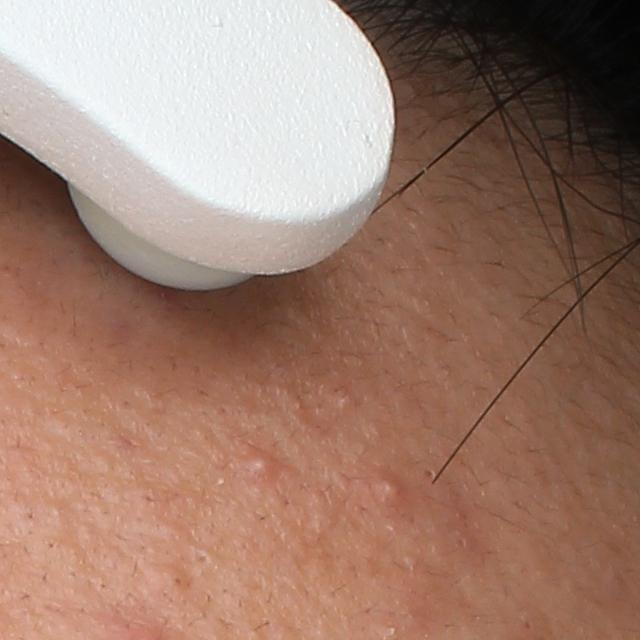comedo: (192, 549, 219, 568)
papule: (377, 474, 406, 504)
